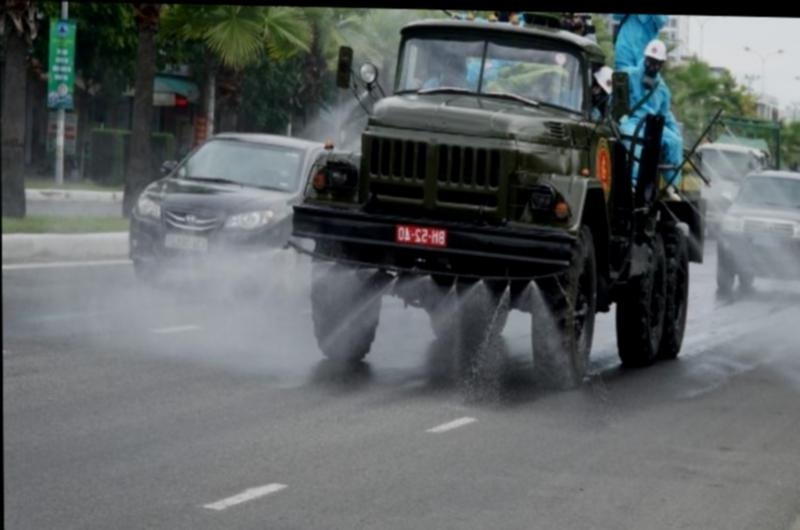License_Plate: (395, 224, 449, 248), (166, 234, 207, 255)
